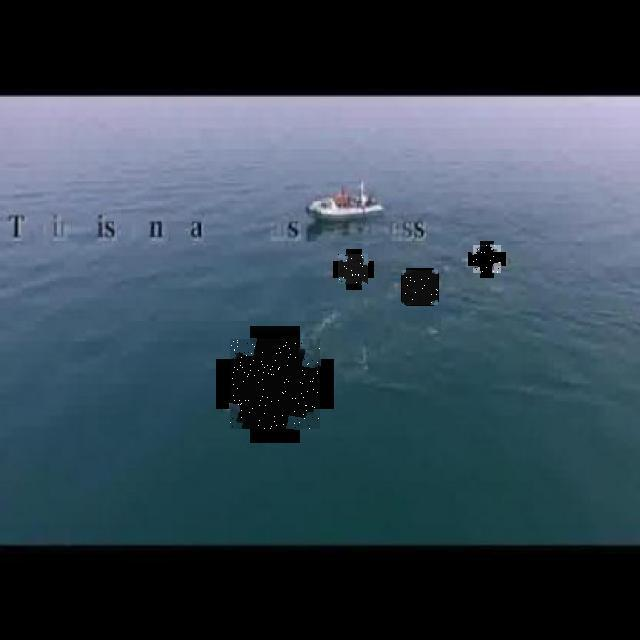swimming: (230, 339, 320, 429), (402, 270, 438, 305), (338, 254, 368, 284), (473, 245, 501, 273)
